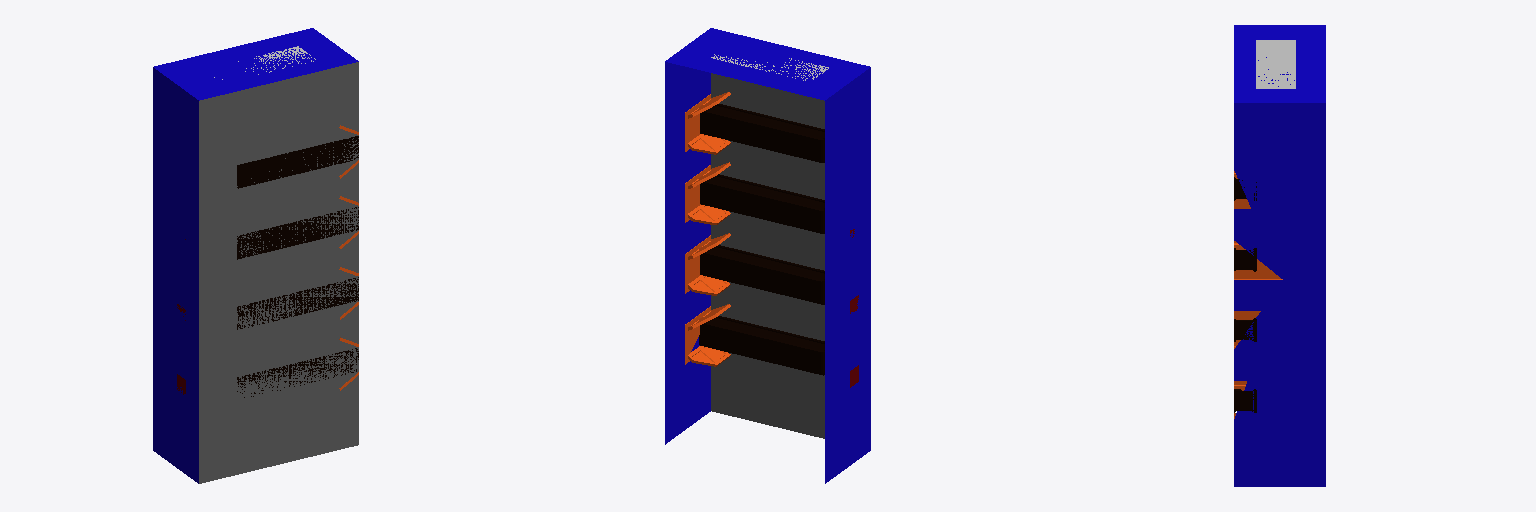
Rendered from room.obj.
The picture shows the model from 3 angles: view 1: azimuth 30°, elevation 25°; view 2: azimuth 150°, elevation 25°; view 3: azimuth 270°, elevation 25°; orthographic projection.
Visible parts, largest first — view 1: Floor, PareteDx, tables, PareteFronte; view 2: Floor, PareteDx, tables, PareteSx, PareteFronte, ContornoPorta, dOOR8, dOOR2, dOOR4, dOOR6; view 3: PareteSx, PareteFronte, pICTURE, tables, ContornoPorta.
Boxes of the visible parts, x1=… form: Floor: x1=199, y1=62, x2=358, y2=483; PareteDx: x1=153, y1=67, x2=198, y2=483; tables: x1=237, y1=136, x2=358, y2=397; PareteFronte: x1=154, y1=28, x2=358, y2=100; Floor: x1=711, y1=73, x2=824, y2=438; PareteDx: x1=825, y1=67, x2=870, y2=483; tables: x1=699, y1=104, x2=824, y2=375; PareteSx: x1=665, y1=62, x2=710, y2=444; PareteFronte: x1=665, y1=28, x2=869, y2=100; ContornoPorta: x1=685, y1=94, x2=710, y2=364; dOOR8: x1=688, y1=346, x2=730, y2=366; dOOR2: x1=688, y1=134, x2=730, y2=154; dOOR4: x1=688, y1=205, x2=730, y2=224; dOOR6: x1=688, y1=275, x2=730, y2=295; PareteSx: x1=1234, y1=103, x2=1325, y2=486; PareteFronte: x1=1234, y1=25, x2=1325, y2=102; pICTURE: x1=1256, y1=40, x2=1295, y2=88; tables: x1=1234, y1=177, x2=1256, y2=412; ContornoPorta: x1=1234, y1=171, x2=1282, y2=418.
Bounding box in the file's own units: 7 × 16 × 3.5.